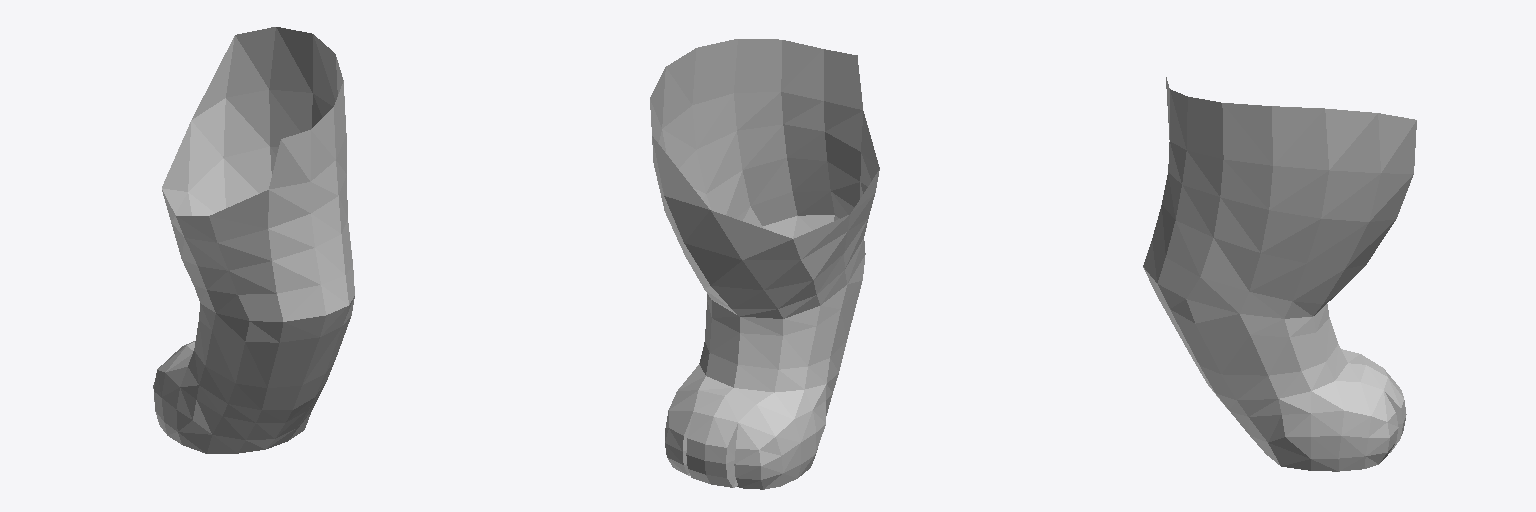
Rendered from derTrasEevee.obj.
3 views of the same model, side by side, from view 1: azimuth 30°, elevation 25°; view 2: azimuth 150°, elevation 25°; view 3: azimuth 270°, elevation 25° (orthographic).
Parts seen in each view (by area): view 1: RThigh, RLeg, RFoot, RToe; view 2: RThigh, RLeg, RFoot, RToe; view 3: RThigh, RFoot, RToe, RLeg.
Boxes of the visible parts, <box> form: RThigh: <box>162,27,347,217</box>; RLeg: <box>162,190,354,321</box>; RFoot: <box>188,285,354,409</box>; RToe: <box>153,341,326,453</box>; RThigh: <box>650,39,862,289</box>; RLeg: <box>693,111,879,293</box>; RFoot: <box>686,215,865,392</box>; RToe: <box>665,364,838,489</box>; RThigh: <box>1166,77,1416,268</box>; RFoot: <box>1143,264,1366,399</box>; RToe: <box>1208,349,1406,471</box>; RLeg: <box>1143,172,1320,313</box>.
Bounding box in the file's own units: 5.18 × 11.39 × 7.58.